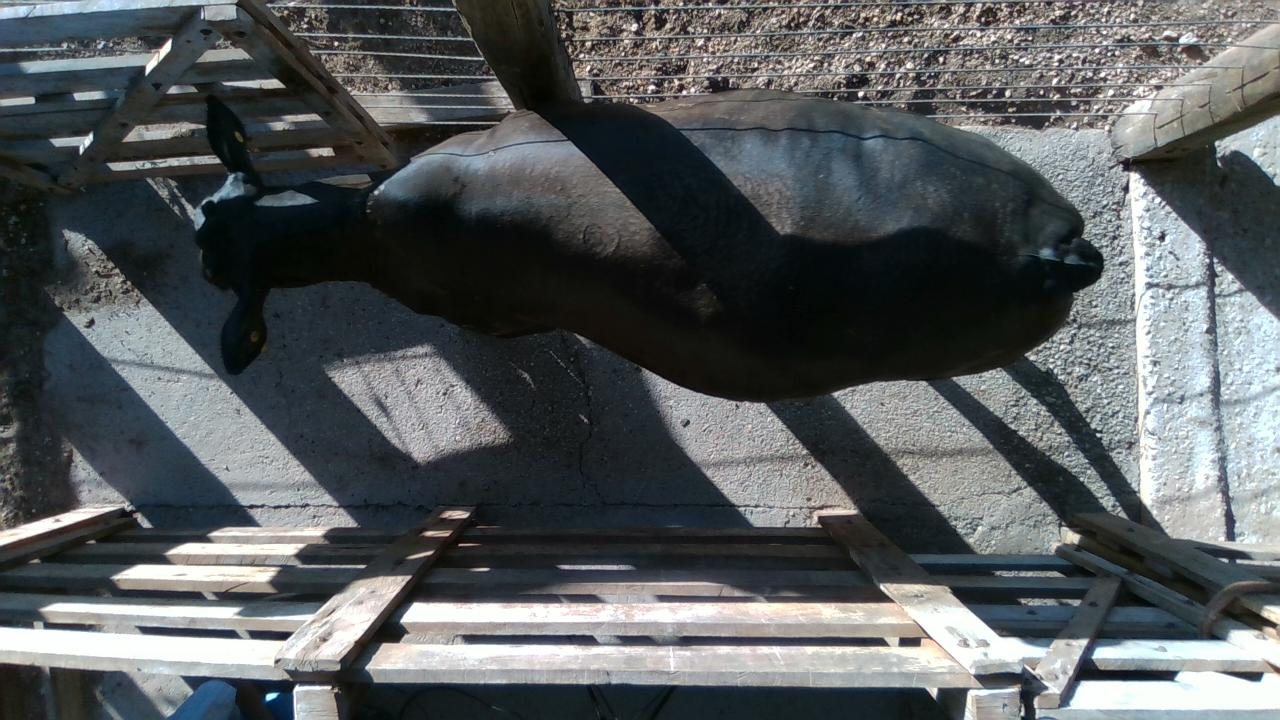cattle: (191, 87, 1104, 404)
